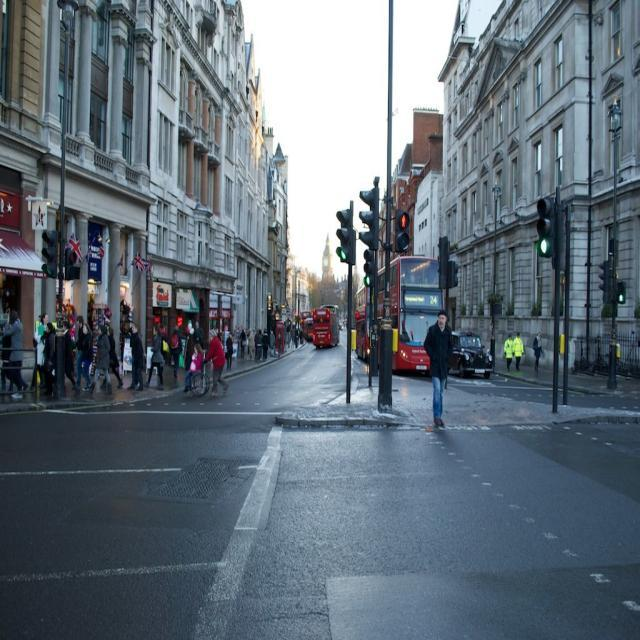off traffic light: (359, 188, 380, 247), (447, 261, 459, 287)
traffic light: (536, 198, 556, 256), (335, 209, 354, 262), (396, 210, 410, 252), (362, 249, 375, 286), (615, 279, 628, 305)
